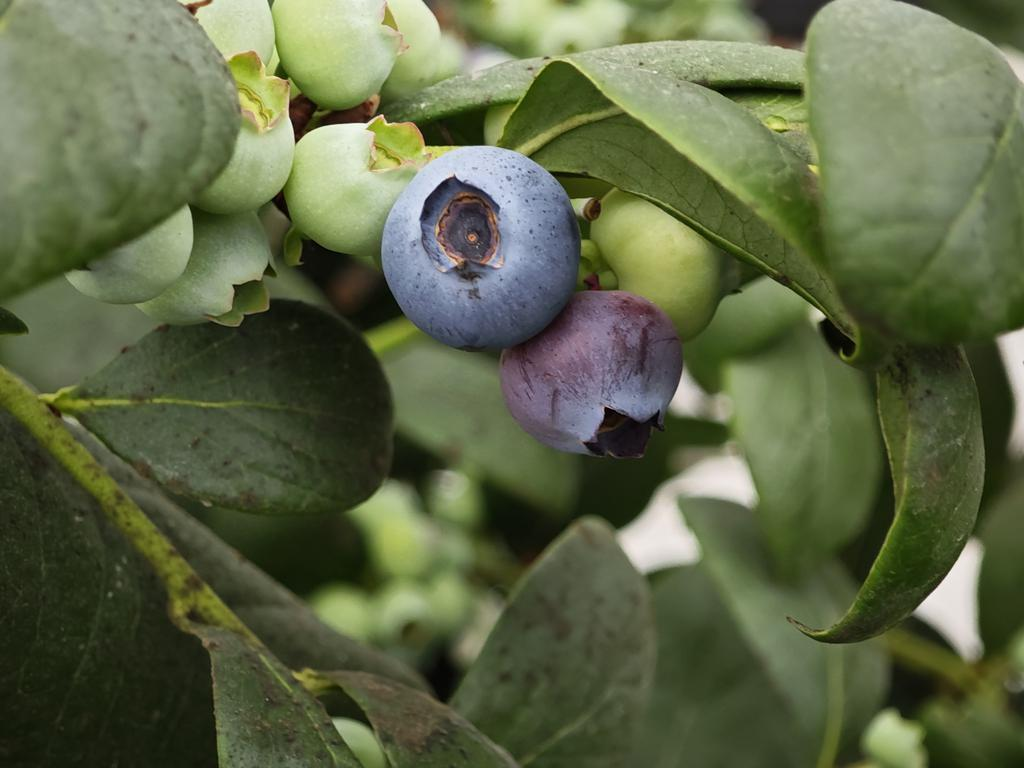RipeBlueBerry: (376, 147, 580, 349)
Semi-RipeBlueBerry: (504, 283, 688, 459)
